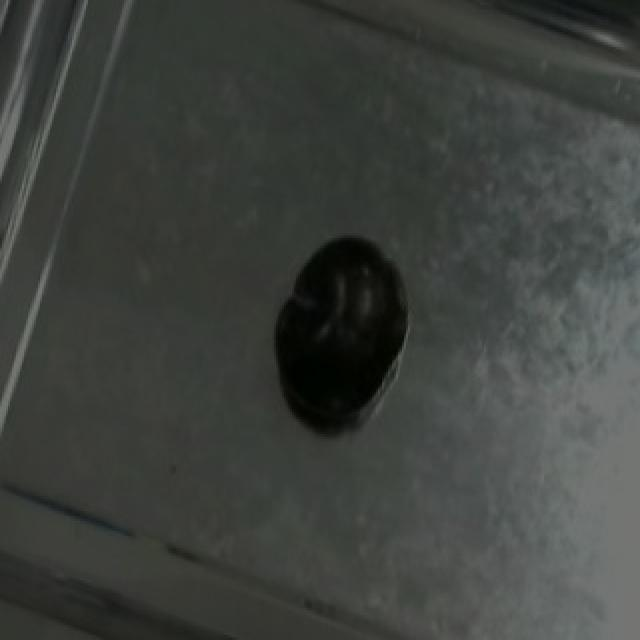Fruit: (258, 218, 414, 439)
